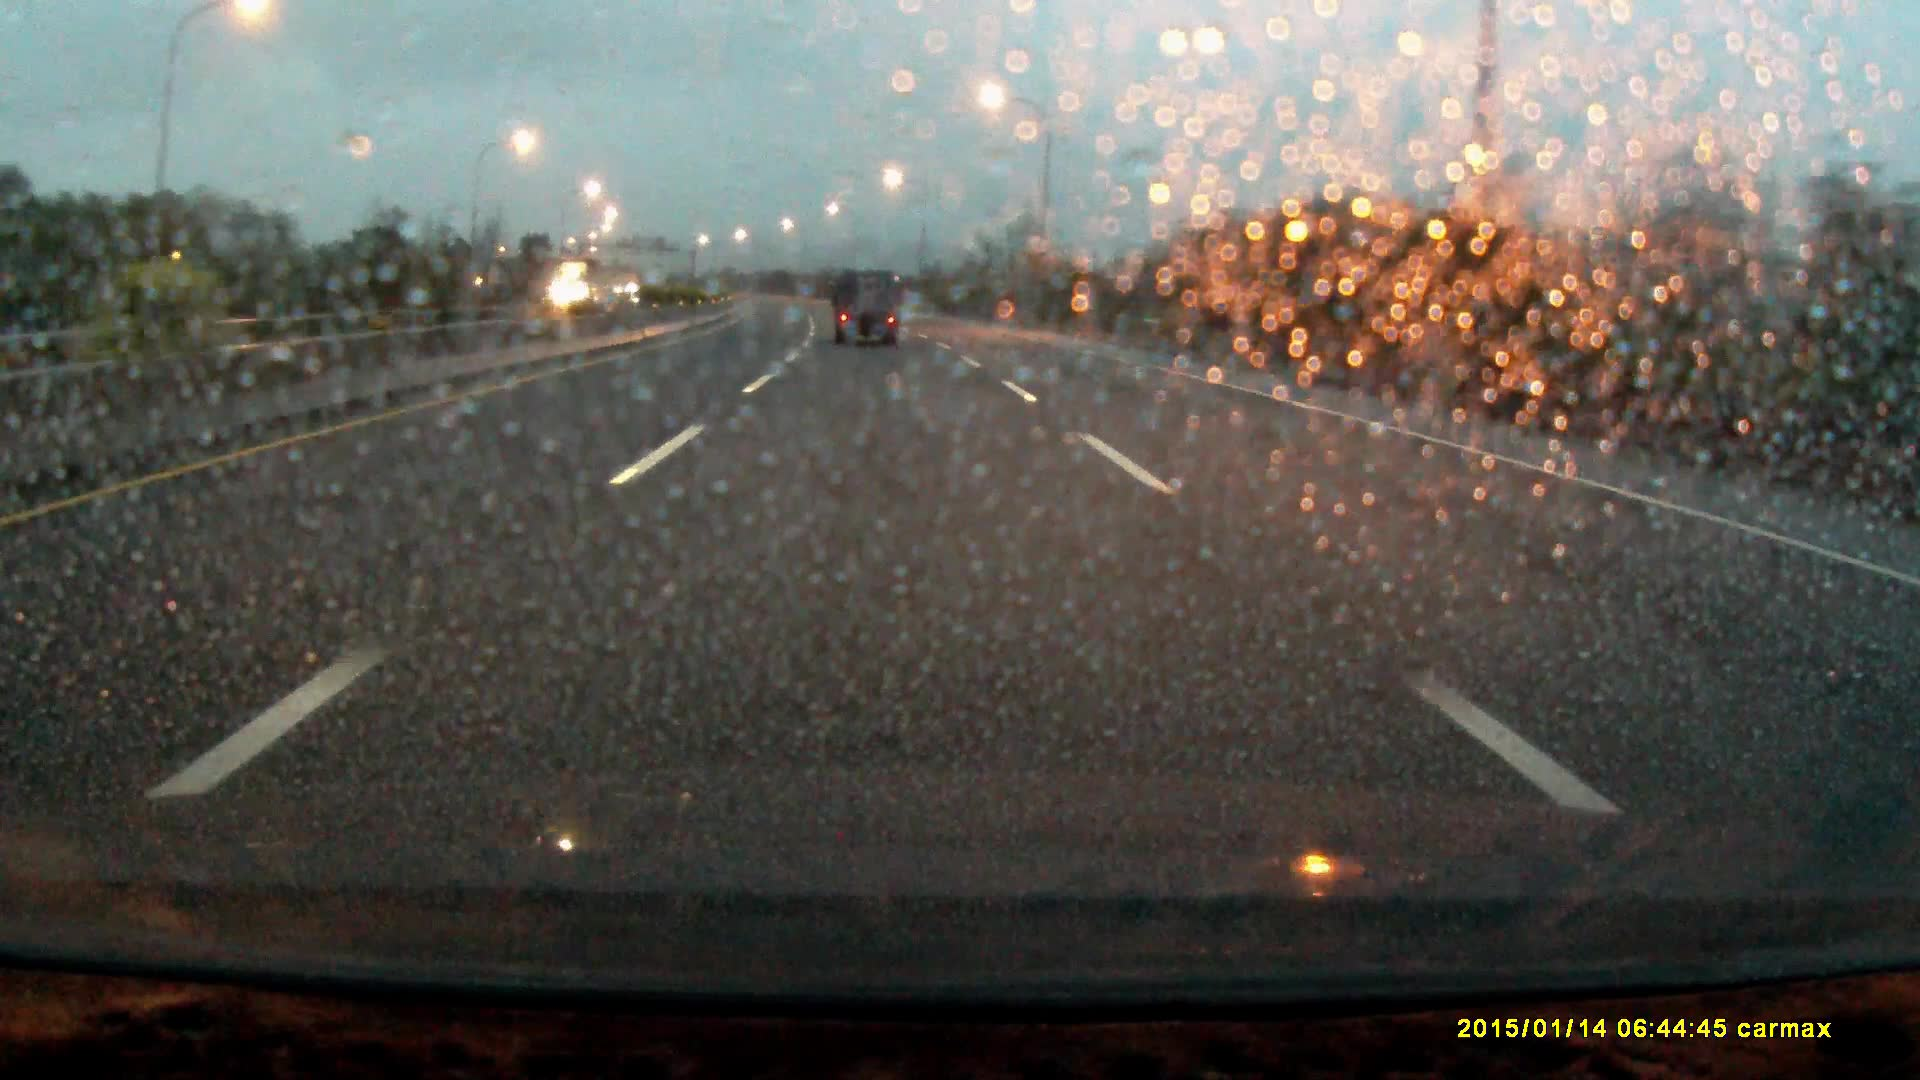vehicle: (832, 274, 902, 353), (558, 265, 626, 320)
